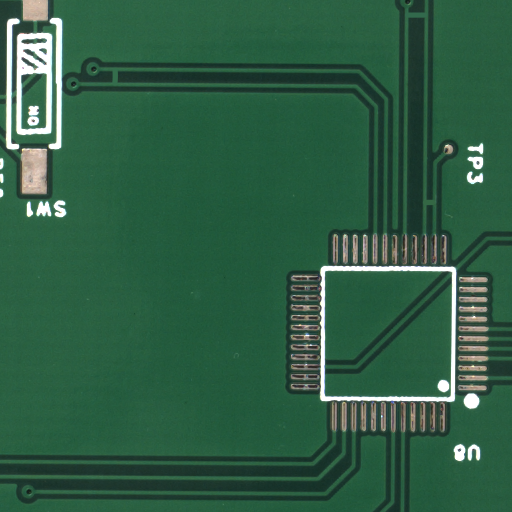Short: (416, 15, 437, 26), (114, 76, 124, 97), (429, 202, 439, 215)
